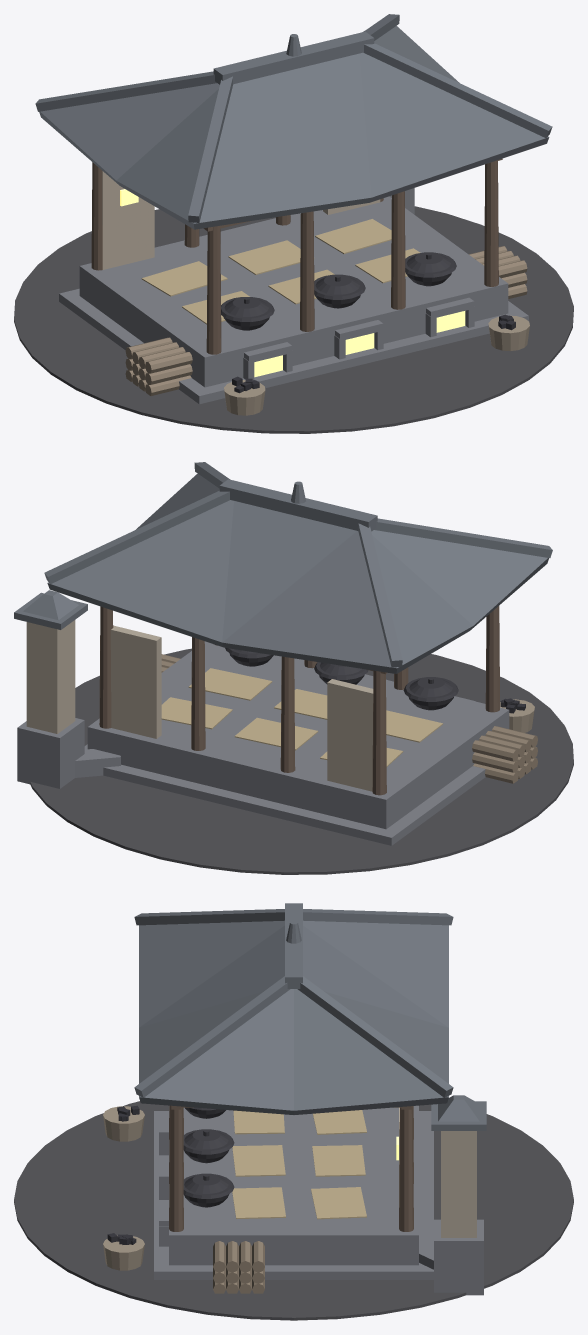
The model's file is BLD_ONDOL_v2.glb.
The picture shows the model from 3 angles, top to bottom: view 1: azimuth 30°, elevation 25°; view 2: azimuth 150°, elevation 25°; view 3: azimuth 270°, elevation 25°; orthographic projection.
Visible parts, largest first — view 1: ondol_giwa_sooty, ondol_stone_hot, ondol_paving_hot, ondol_timber_dark, ondol_thatch_sooty, ondol_iron_hot, ondol_log_bark, ondol_plaster, ondol_felt_patch, ondol_window, ondol_coal; view 2: ondol_giwa_sooty, ondol_stone_hot, ondol_paving_hot, ondol_plaster, ondol_timber_dark, ondol_thatch_sooty, ondol_log_bark, ondol_iron_hot, ondol_felt_patch; view 3: ondol_giwa_sooty, ondol_paving_hot, ondol_stone_hot, ondol_thatch_sooty, ondol_plaster, ondol_timber_dark, ondol_iron_hot, ondol_log_bark, ondol_felt_patch.
Part boxes in pixels (x1=…): ondol_giwa_sooty: x1=35, y1=14, x2=552, y2=229; ondol_stone_hot: x1=59, y1=188, x2=528, y2=404; ondol_paving_hot: x1=14, y1=206, x2=573, y2=433; ondol_timber_dark: x1=91, y1=158, x2=502, y2=354; ondol_thatch_sooty: x1=141, y1=219, x2=420, y2=324; ondol_iron_hot: x1=221, y1=252, x2=456, y2=330; ondol_log_bark: x1=125, y1=246, x2=527, y2=395; ondol_plaster: x1=102, y1=171, x2=380, y2=269; ondol_felt_patch: x1=224, y1=315, x2=529, y2=415; ondol_window: x1=120, y1=189, x2=465, y2=377; ondol_coal: x1=232, y1=314, x2=515, y2=393; ondol_giwa_sooty: x1=14, y1=462, x2=552, y2=673; ondol_stone_hot: x1=17, y1=641, x2=509, y2=845; ondol_paving_hot: x1=30, y1=648, x2=573, y2=874; ondol_plaster: x1=26, y1=620, x2=373, y2=791; ondol_timber_dark: x1=99, y1=606, x2=499, y2=795; ondol_thatch_sooty: x1=161, y1=668, x2=443, y2=766; ondol_log_bark: x1=161, y1=654, x2=537, y2=783; ondol_iron_hot: x1=225, y1=648, x2=458, y2=710; ondol_felt_patch: x1=500, y1=699, x2=534, y2=732; ondol_giwa_sooty: x1=134, y1=903, x2=486, y2=1130; ondol_paving_hot: x1=14, y1=1101, x2=573, y2=1320; ondol_stone_hot: x1=154, y1=1105, x2=483, y2=1295; ondol_thatch_sooty: x1=232, y1=1110, x2=366, y2=1219; ondol_plaster: x1=399, y1=1107, x2=476, y2=1237; ondol_timber_dark: x1=169, y1=1105, x2=413, y2=1231; ondol_iron_hot: x1=183, y1=1107, x2=234, y2=1207; ondol_log_bark: x1=213, y1=1241, x2=264, y2=1293; ondol_felt_patch: x1=103, y1=1106, x2=144, y2=1270.
Bounding box in the file's own units: 11.2 × 6.17 × 11.2.
